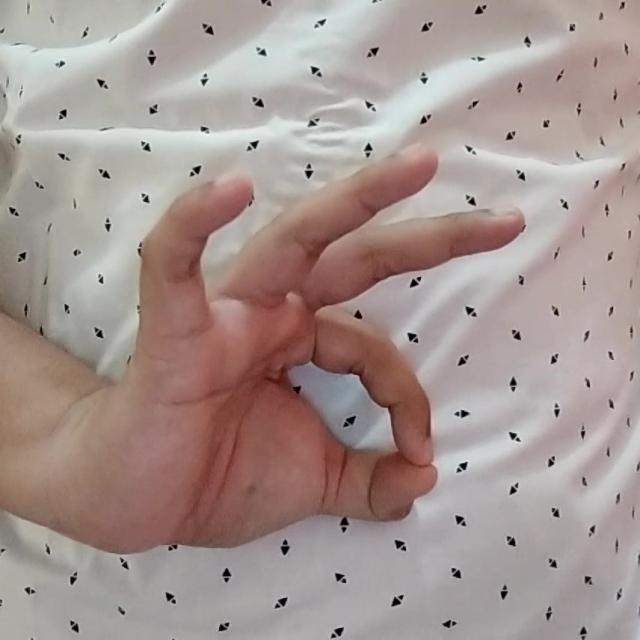O: (118, 142, 540, 570)
